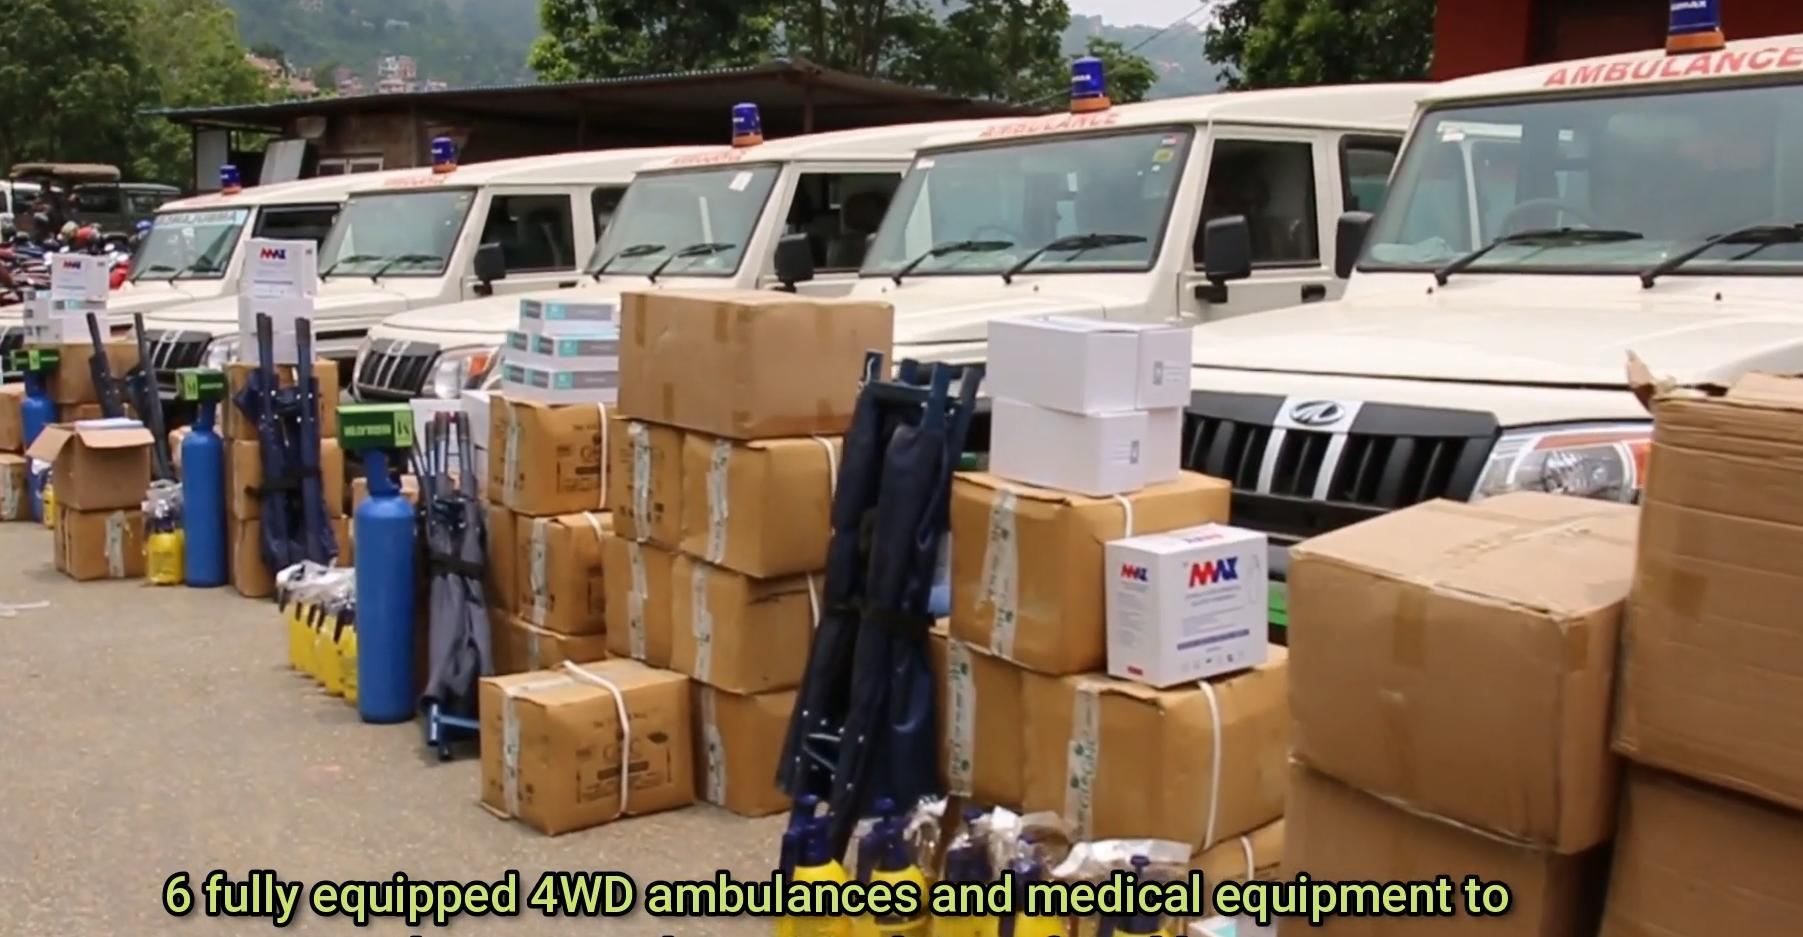ambulance: (1187, 0, 1803, 699)
